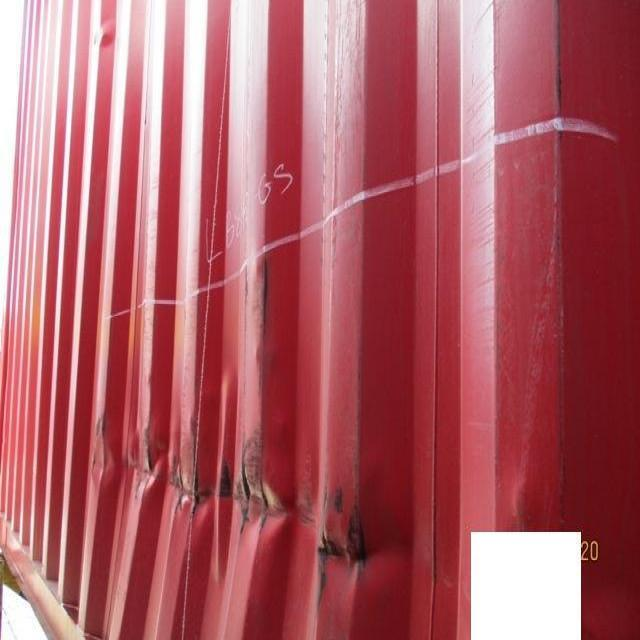dent: (68, 373, 435, 635)
